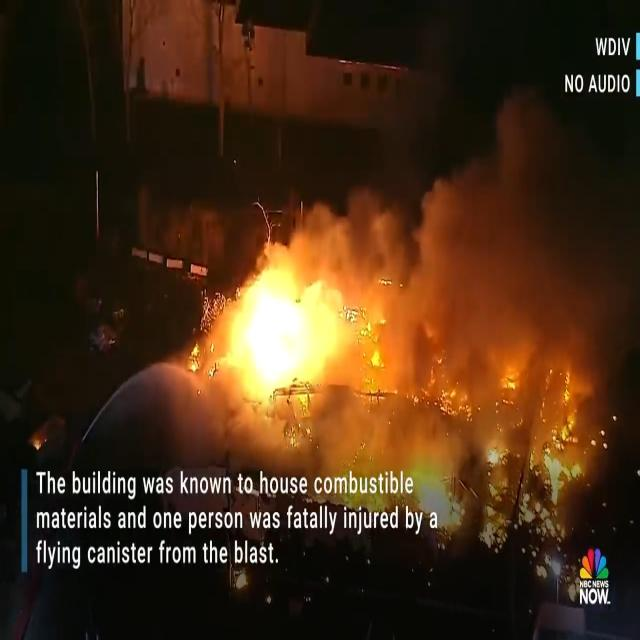fire: (460, 352, 603, 487), (241, 279, 342, 391), (248, 398, 390, 469), (357, 300, 412, 394), (399, 447, 462, 527)
